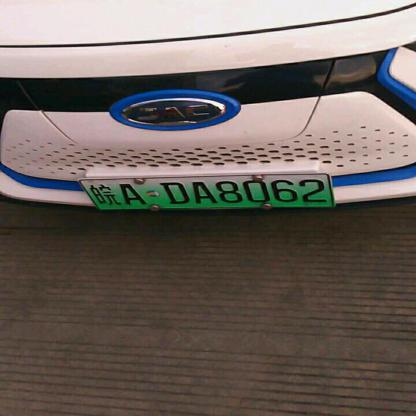lp: (78, 173, 335, 209)
